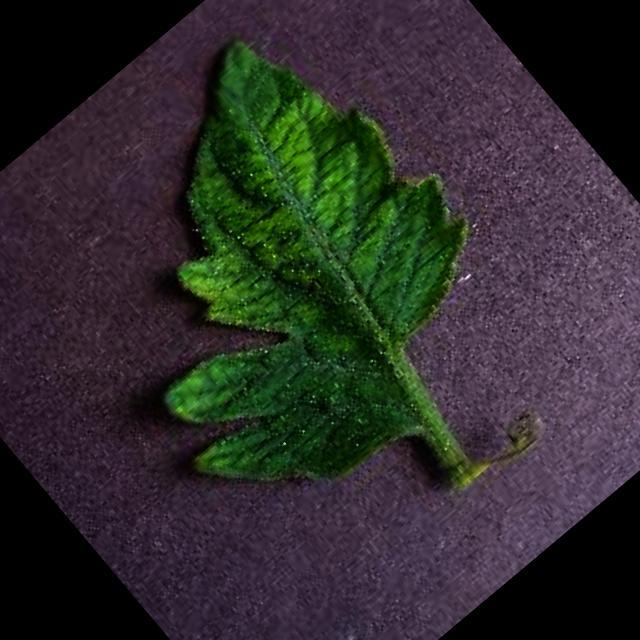Tomato mosaic virus leaf: (0, 0, 559, 561)
